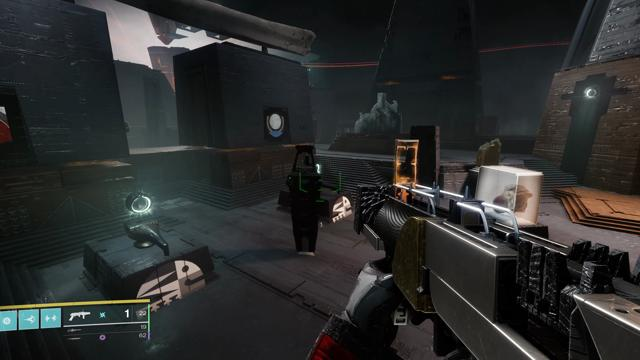pyramid: (0, 104, 13, 144)
traveler: (266, 111, 285, 137)
